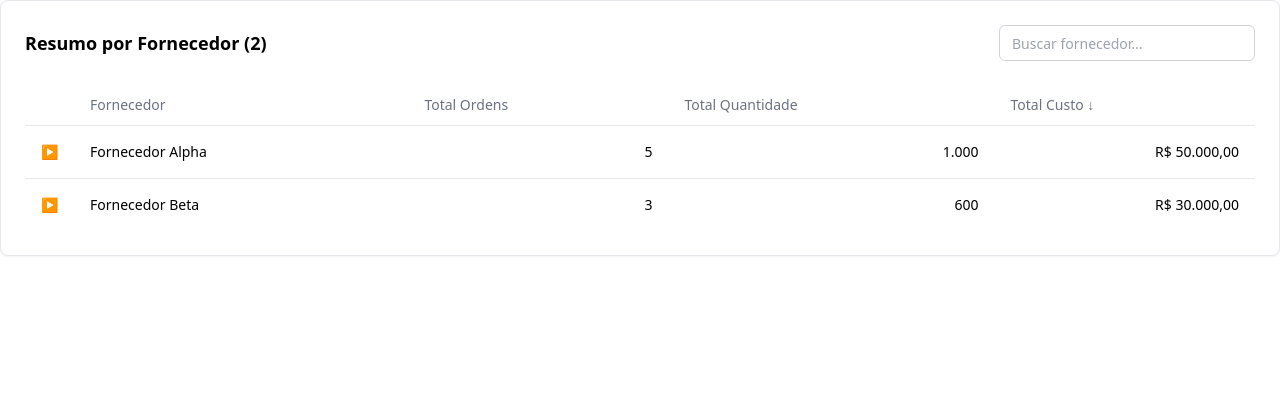
Test: SupplierSummaryTable › should expand a supplier row when clicked to show orders
Note: Click on "Fornecedor Alpha" row to expand
Click the text "Fornecedor Alpha". click: (148, 151)
box: x1=74 y1=125 x2=408 y2=178
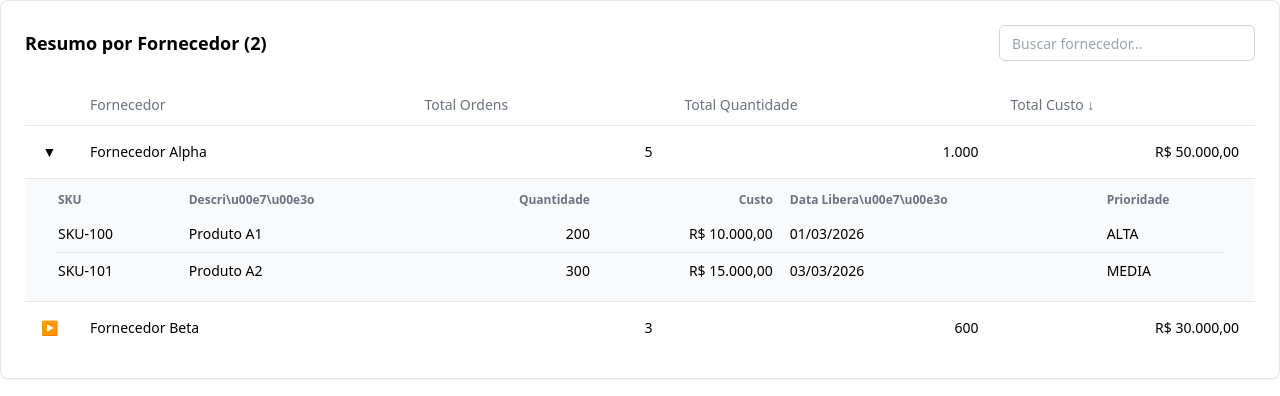
Result: the text "SKU-100" is shown at x1=57 y1=216 x2=188 y2=252
Result: the text "Produto A1" is shown at x1=188 y1=216 x2=446 y2=252
Result: the text "SKU-101" is shown at x1=57 y1=252 x2=188 y2=288
